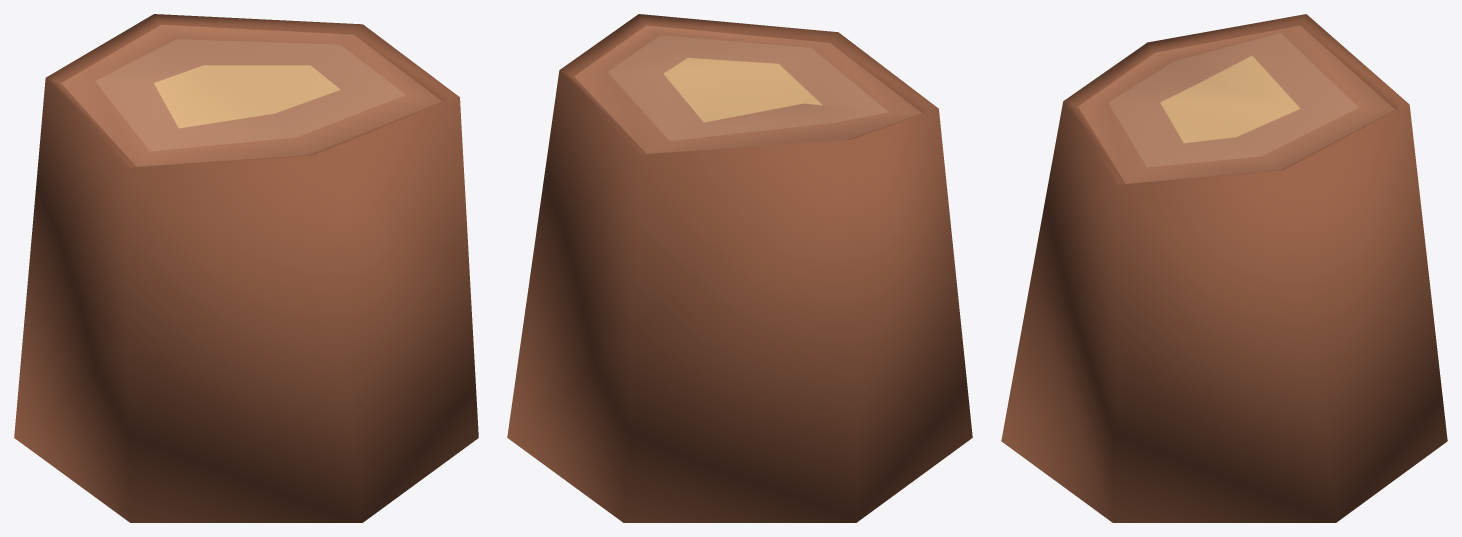
File: Stump_02_LOD2.gltf
3 views of the same model, side by side, from view 1: azimuth 30°, elevation 25°; view 2: azimuth 150°, elevation 25°; view 3: azimuth 270°, elevation 25° (orthographic). The views are drawn at different scales.
Visible parts, largest first — view 1: Stump_02_LOD2_Cylinder.090; view 2: Stump_02_LOD2_Cylinder.090; view 3: Stump_02_LOD2_Cylinder.090.
Part boxes in pixels (x1=…): Stump_02_LOD2_Cylinder.090: x1=14, y1=14, x2=478, y2=522; Stump_02_LOD2_Cylinder.090: x1=507, y1=14, x2=972, y2=522; Stump_02_LOD2_Cylinder.090: x1=1001, y1=14, x2=1447, y2=522.
Size of the model in its own units: 1.37 by 1.38 by 1.58.
1 material, 1 textured.
